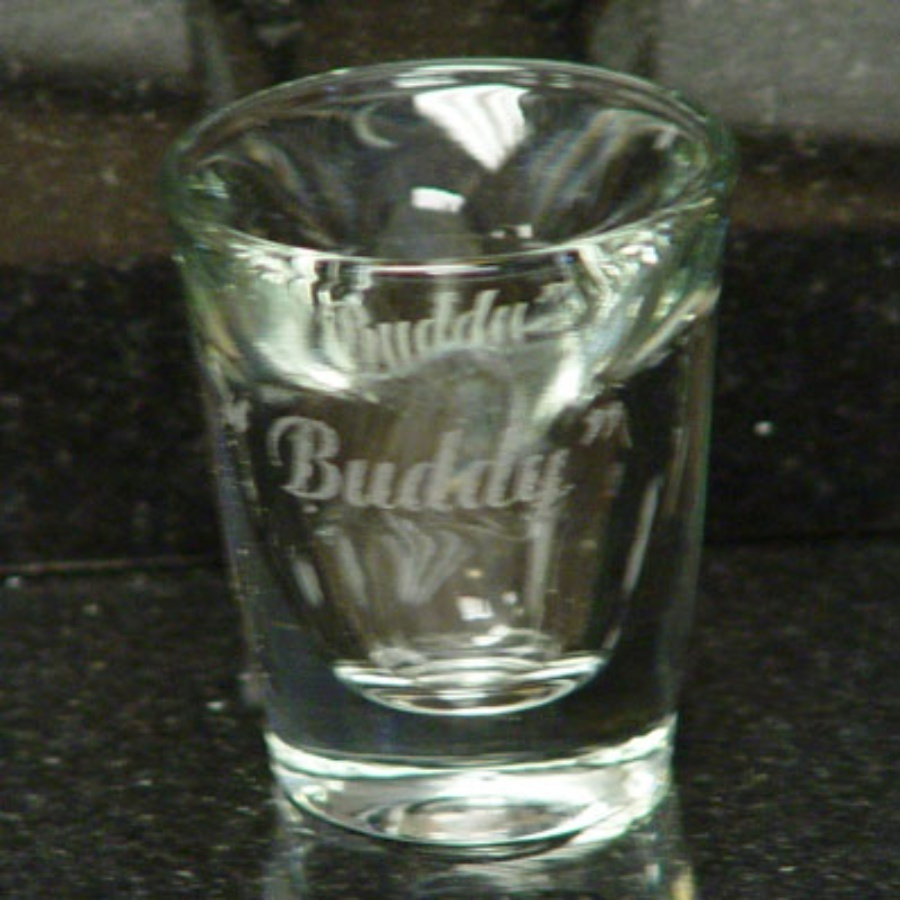whiskey: (165, 66, 730, 836)
